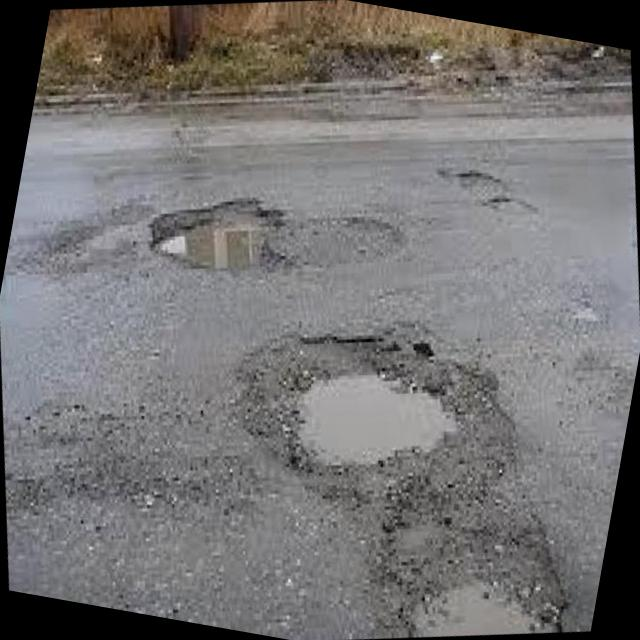Pathole: (295, 376, 454, 469), (403, 567, 540, 637), (150, 203, 268, 271)
